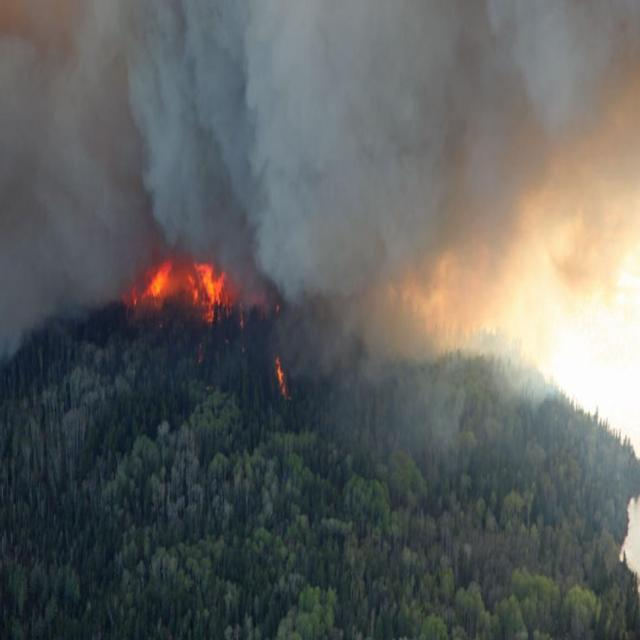Fire: (128, 235, 258, 331), (269, 343, 295, 413)
